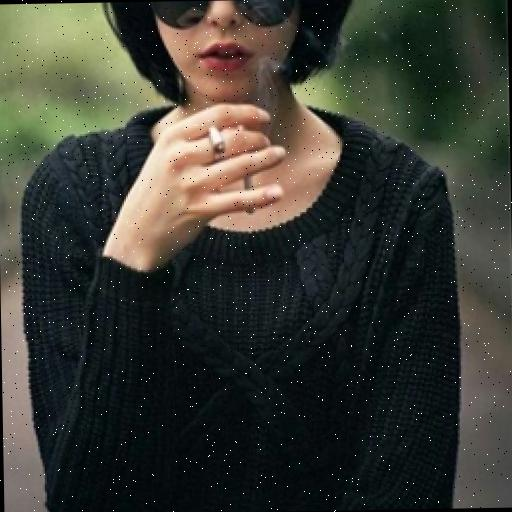terdeteksi pegang rokok: (164, 69, 288, 248)
